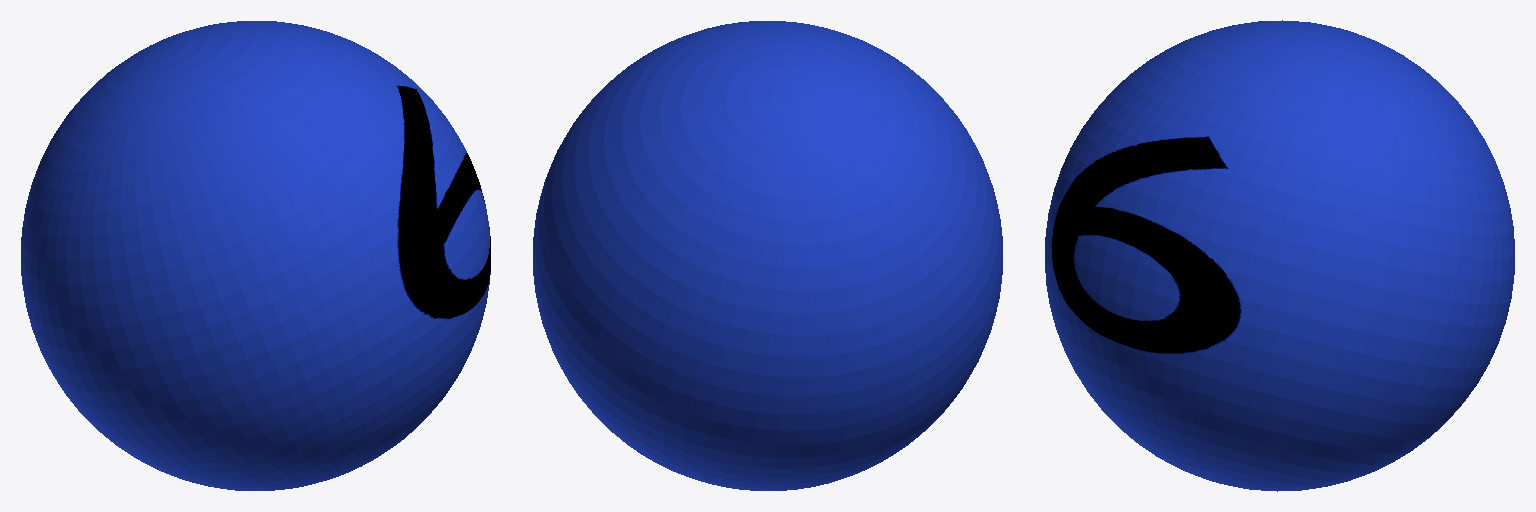
3 renders of one model, left to right at view 1: azimuth 30°, elevation 25°; view 2: azimuth 150°, elevation 25°; view 3: azimuth 270°, elevation 25°, orthographic.
Parts seen in each view (by area): view 1: Sphere; view 2: Sphere; view 3: Sphere.
Boxes of the visible parts, x1,y1,x2,y2 form: Sphere: [21, 21, 490, 490]; Sphere: [533, 21, 1002, 490]; Sphere: [1045, 20, 1514, 491].
Size of the model in its own units: 2 by 2 by 2.
1 materials, 1 textured.